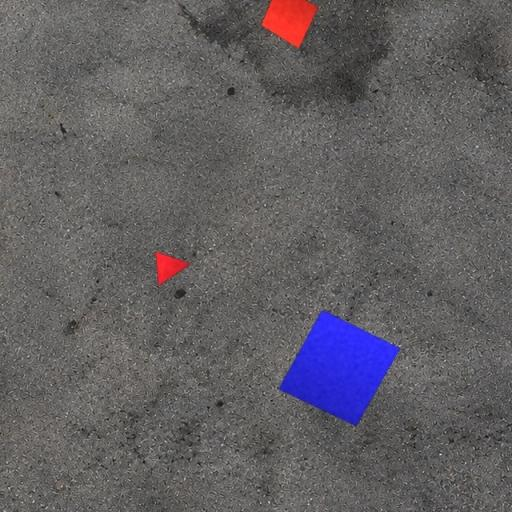BLUE_SQUARE: (278, 309, 402, 427)
RED_SQUARE: (260, 0, 319, 50)
